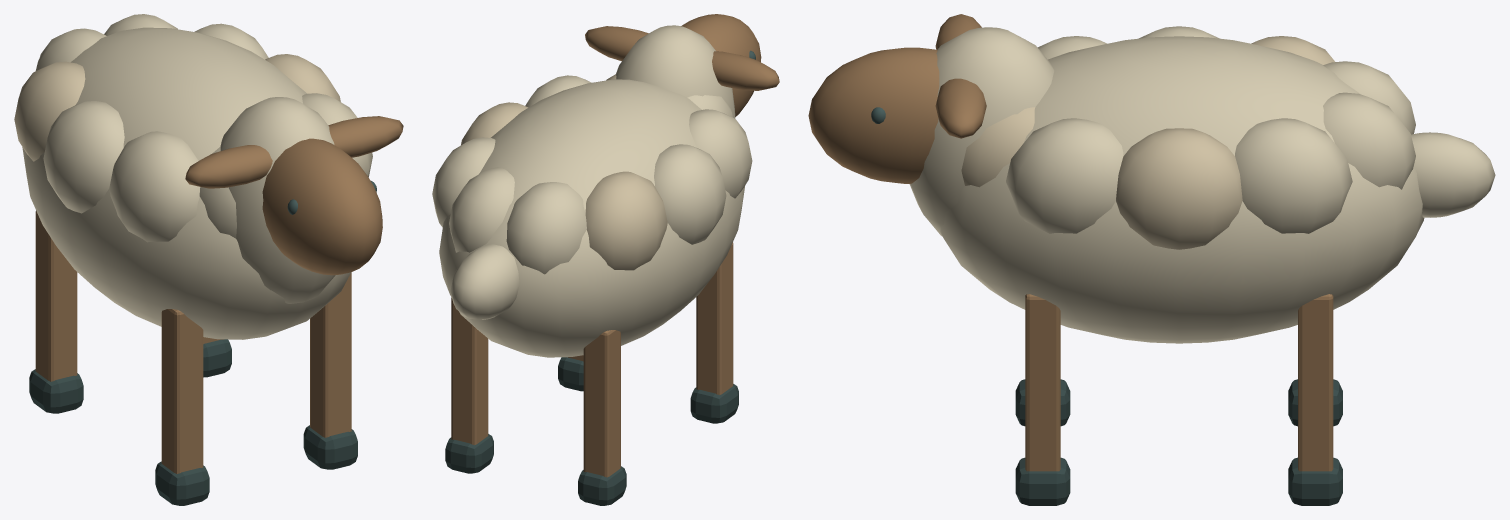
Rendered from sheep.glb.
3 renders of one model, left to right at view 1: azimuth 30°, elevation 25°; view 2: azimuth 150°, elevation 25°; view 3: azimuth 270°, elevation 25°, orthographic. The views are drawn at different scales.
Parts seen in each view (by area): view 1: sheep__Visual_matte; view 2: sheep__Visual_matte; view 3: sheep__Visual_matte.
Boxes of the visible parts, <box> form: sheep__Visual_matte: <box>14,14,403,505</box>; sheep__Visual_matte: <box>432,14,779,505</box>; sheep__Visual_matte: <box>808,14,1495,505</box>.
Size of the model in its own units: 0.64 by 0.87 by 1.26.
